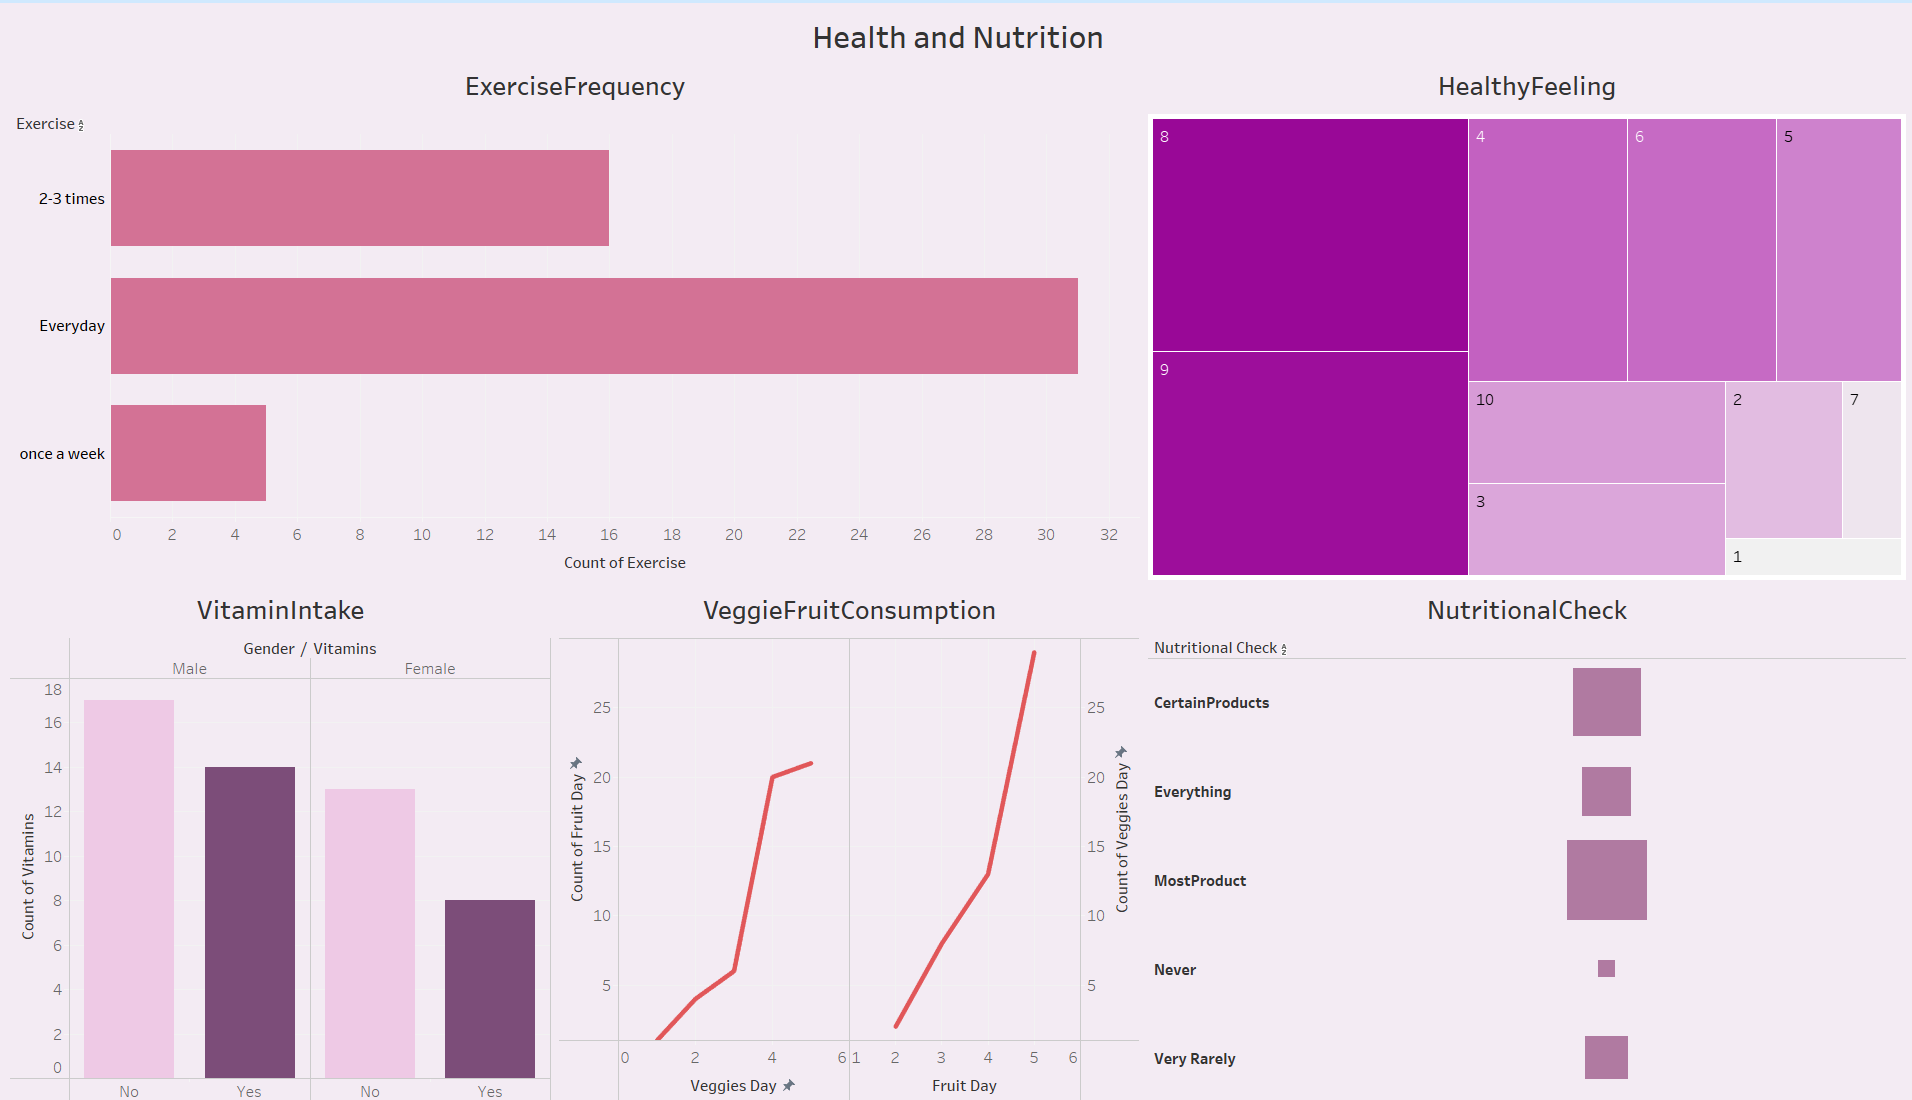

The dashboard page shown, as its layout file describes it:
{"tool":"tableau","page":{"name":"Dashboard 3","canvas":[1000,1000],"units":"permille","ordinal":2},"visuals":[{"type":"title","box":[4.2,7.2,991.7,44]},{"type":"worksheet","title":"exercise","mark":"Automatic","rows":["exercise"],"cols":["exercise"],"box":[4.2,51.2,592.8,470.8]},{"type":"worksheet","title":"Healthy","mark":"Automatic","box":[597,51.2,398.9,470.8]},{"type":"worksheet","title":"vitamin","mark":"Automatic","rows":["vitamins"],"cols":["Gender","vitamins"],"box":[4.2,522,285.8,470.8]},{"type":"worksheet","title":"veggie line","mark":"Line","rows":["fruit_day","veggies_day"],"cols":["veggies_day","fruit_day"],"box":[290,522,307,470.8]},{"type":"worksheet","title":"Heatmp","mark":"Automatic","rows":["nutritional_check"],"box":[597,522,398.9,470.8]}]}

Visuals, with their boxes on the dashboard's canvas, which has no fixed pixel size, in thousandths of its width and height (x1, y1, x2, y2). These are canvas units, not pixel positions in the 1912x1100 screenshot, which may show the page scaled, cropped or inside an application window:
title: {"left": 4, "top": 7, "right": 996, "bottom": 51}
"exercise" worksheet: {"left": 4, "top": 51, "right": 597, "bottom": 522}
"Healthy" worksheet: {"left": 597, "top": 51, "right": 996, "bottom": 522}
"vitamin" worksheet: {"left": 4, "top": 522, "right": 290, "bottom": 993}
"veggie line" worksheet (Line marks): {"left": 290, "top": 522, "right": 597, "bottom": 993}
"Heatmp" worksheet: {"left": 597, "top": 522, "right": 996, "bottom": 993}
